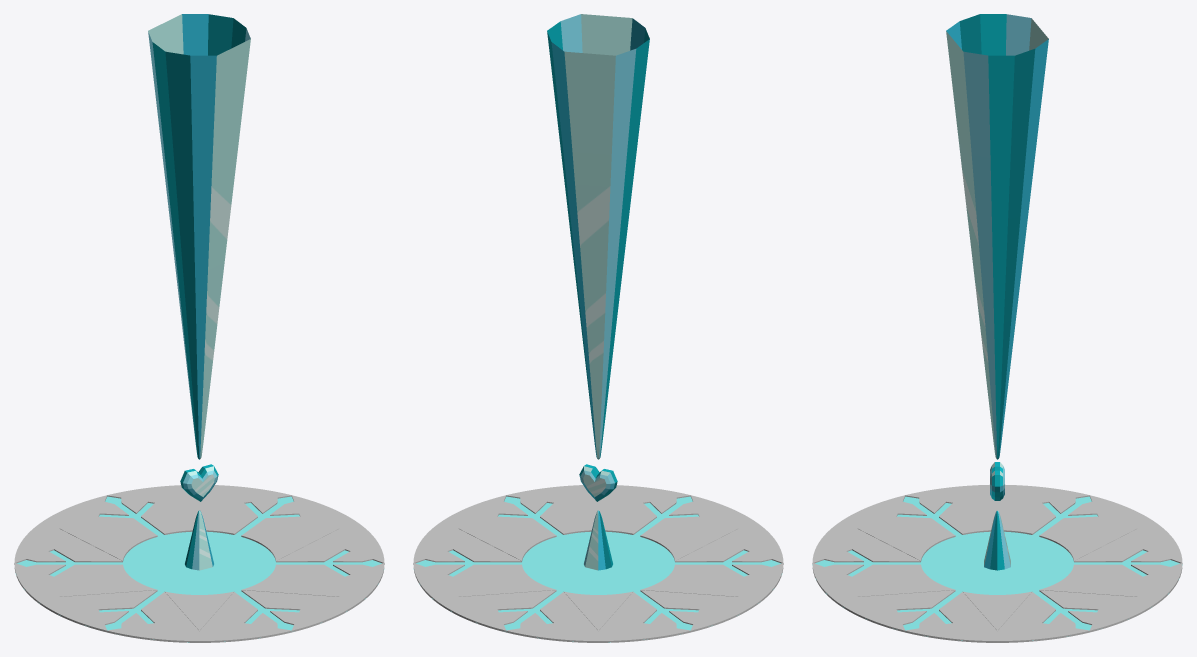
File: CrystalHeart.fbx
3 renders of one model, left to right at view 1: azimuth 30°, elevation 25°; view 2: azimuth 150°, elevation 25°; view 3: azimuth 270°, elevation 25°, orthographic.
Parts seen in each view (by area): view 1: Pedestal, Crystal Spikes, Pedestal Activated, Plane; view 2: Pedestal, Crystal Spikes, Pedestal Activated, Plane; view 3: Pedestal, Crystal Spikes, Pedestal Activated, Plane.
Boxes of the visible parts, x1,y1,x2,y2 form: Pedestal: (14, 485, 384, 642); Crystal Spikes: (148, 14, 250, 570); Pedestal Activated: (15, 496, 384, 642); Plane: (180, 464, 218, 501); Pedestal: (413, 485, 783, 642); Crystal Spikes: (547, 14, 649, 570); Pedestal Activated: (413, 496, 782, 642); Plane: (579, 464, 617, 501); Pedestal: (812, 484, 1182, 642); Crystal Spikes: (946, 14, 1048, 570); Pedestal Activated: (812, 496, 1182, 640); Plane: (990, 462, 1004, 500).
Size of the model in its own units: 2987 by 4712 by 2987.
